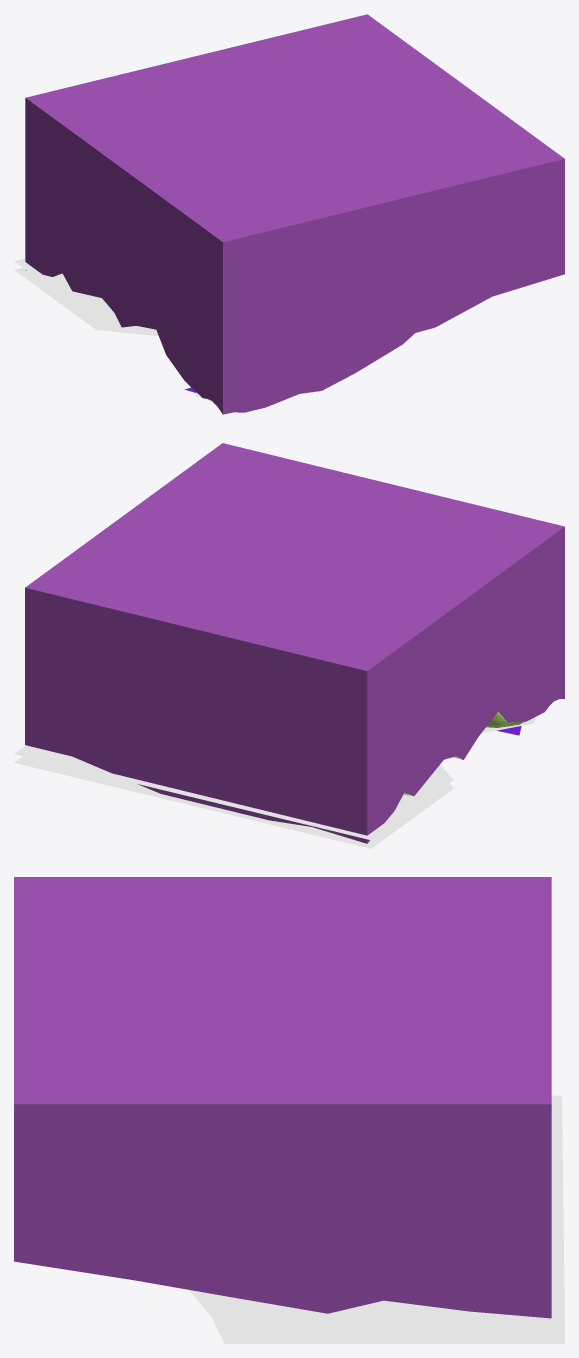
Rendered from deltahalo_00.fbx.
3 views of the same model, one above another, from view 1: azimuth 30°, elevation 25°; view 2: azimuth 150°, elevation 25°; view 3: azimuth 270°, elevation 25° (orthographic). The views are drawn at different scales.
Visible parts, largest first — view 1: sky, portal:portals_bsp_00; view 2: sky, portal:portals_bsp_00; view 3: sky, portal:portals_bsp_00.
Part boxes in pixels (<box>): sky: <box>25,14,564,414</box>; portal:portals_bsp_00: <box>14,258,348,402</box>; sky: <box>25,443,564,843</box>; portal:portals_bsp_00: <box>14,716,536,848</box>; sky: <box>14,877,551,1318</box>; portal:portals_bsp_00: <box>189,1095,564,1343</box>.
Size of what is drawn, in the model's own units: 122948 by 124885 by 70425.
